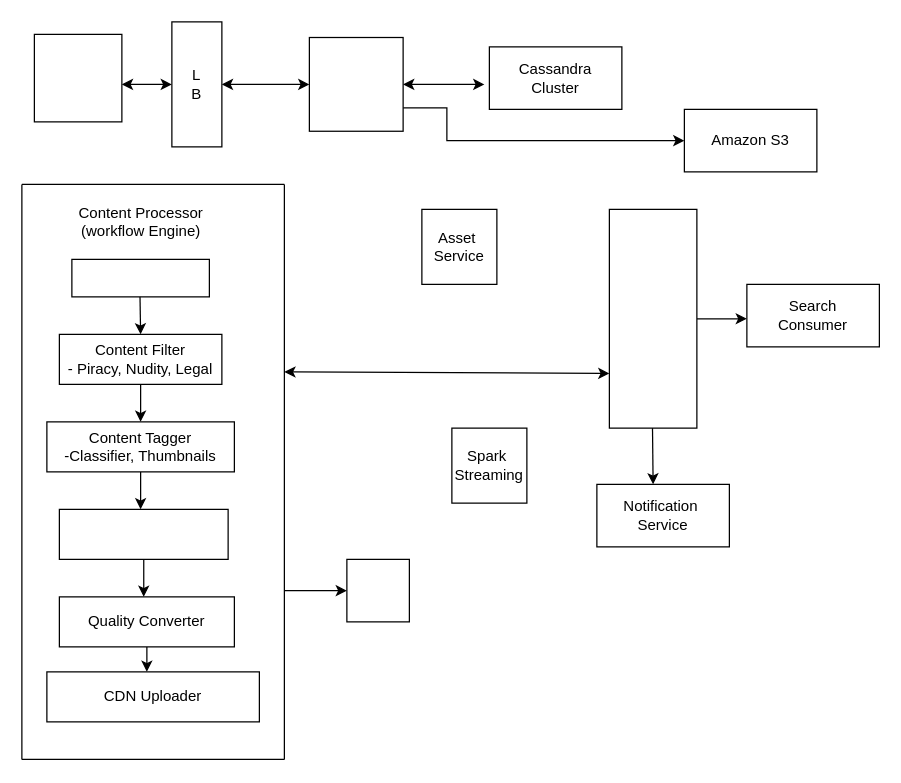
This 901x783 diagram has some shape labels left out. The shapes that lost their labels are listed below. From the top down, each one's centre as x and y in pixels, then its label:
pixel 77 77: UI for Production House
pixel 355 83: Asset On-Boarding Service
pixel 140 277: File Chunker
pixel 652 318: K A F K A
pixel 143 533: Transcoders - Formats
pixel 377 590: CDN
